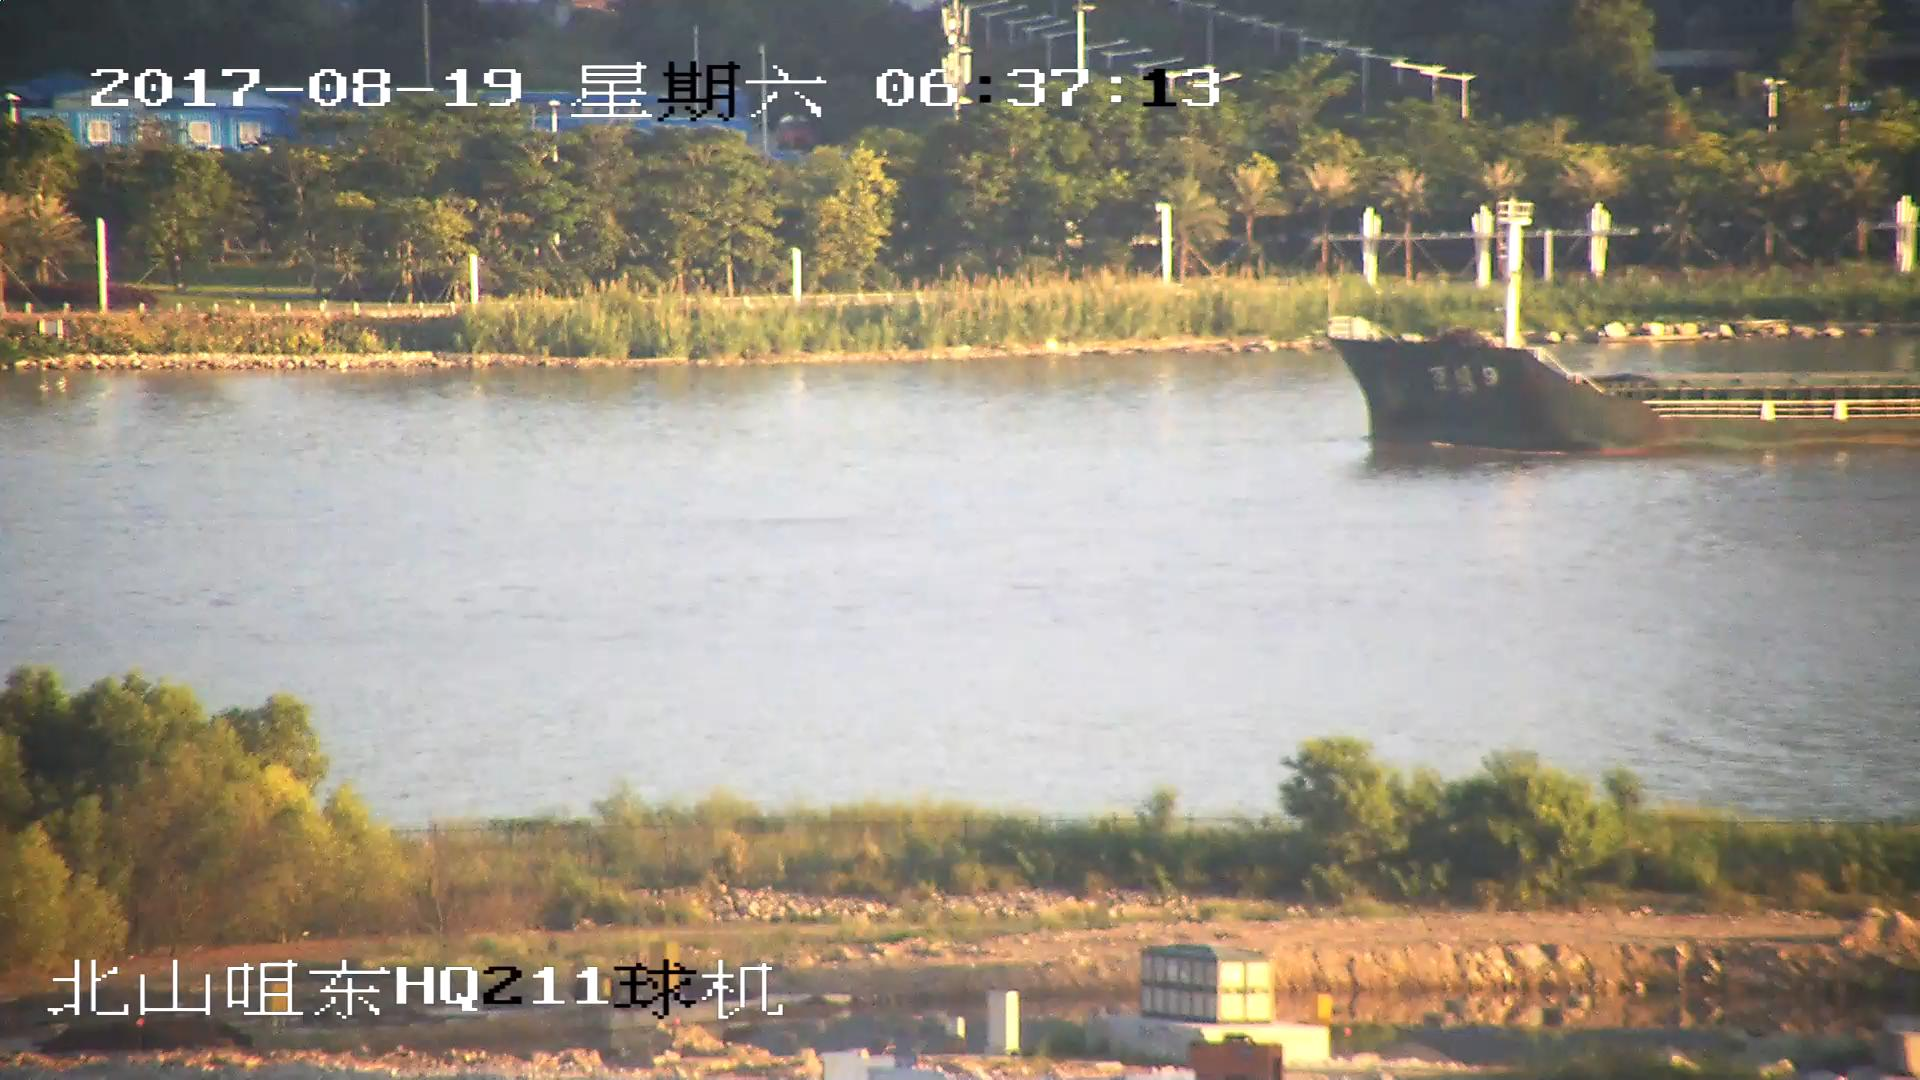general cargo ship: (1325, 228, 1920, 457)
